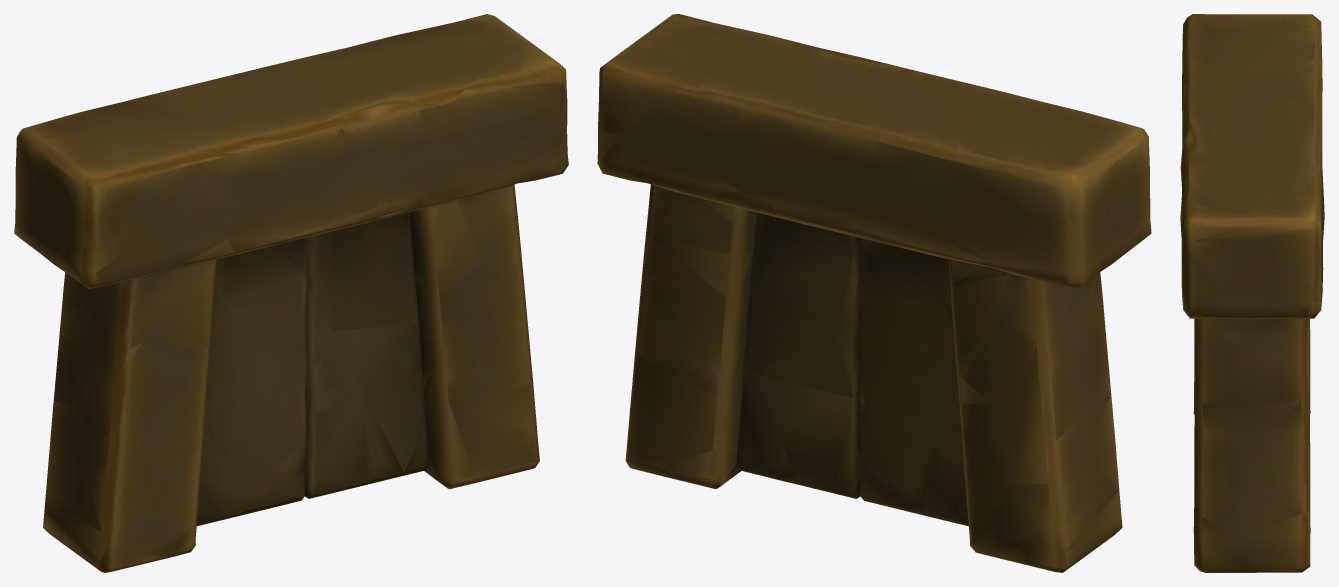
File: crypt-door.glb
3 views of the same model, side by side, from view 1: azimuth 30°, elevation 25°; view 2: azimuth 150°, elevation 25°; view 3: azimuth 270°, elevation 25° (orthographic). The views are drawn at different scales.
Visible parts, largest first — view 1: tripo_node_8fd109cb-fe46-4c5c-96a8-0d61cf14ff4a; view 2: tripo_node_8fd109cb-fe46-4c5c-96a8-0d61cf14ff4a; view 3: tripo_node_8fd109cb-fe46-4c5c-96a8-0d61cf14ff4a.
Boxes of the visible parts, x1,y1,x2,y2 form: tripo_node_8fd109cb-fe46-4c5c-96a8-0d61cf14ff4a: [14, 14, 568, 572]; tripo_node_8fd109cb-fe46-4c5c-96a8-0d61cf14ff4a: [597, 14, 1151, 572]; tripo_node_8fd109cb-fe46-4c5c-96a8-0d61cf14ff4a: [1180, 14, 1324, 572].
Size of the model in its own units: 0.9827 by 0.7812 by 0.2812.
Materials: 1 (1 with a texture image).
